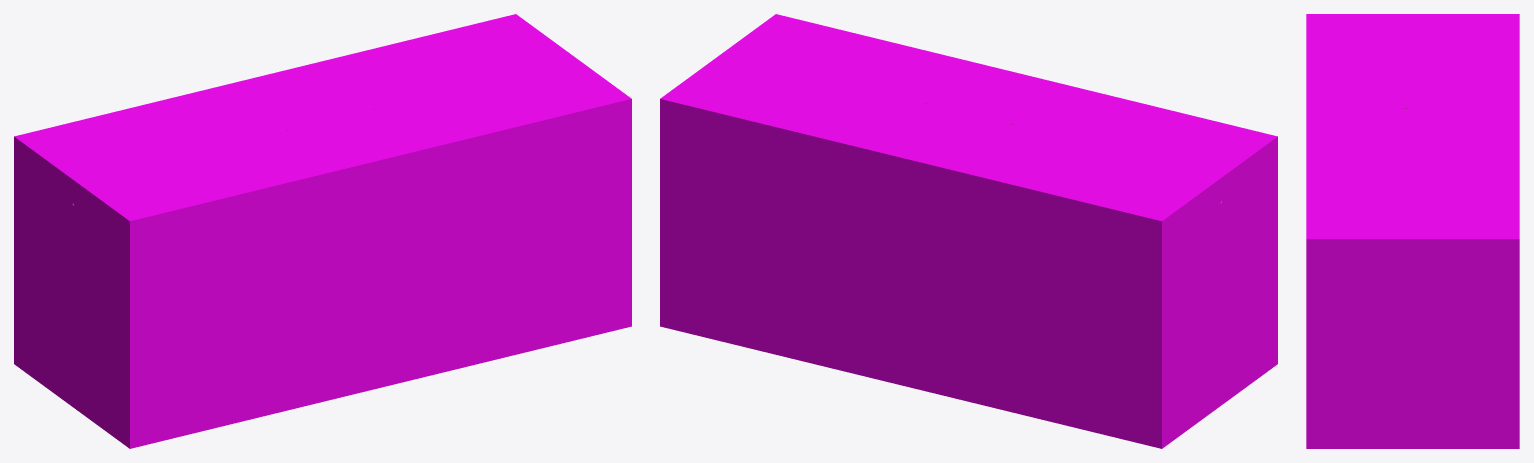
The model's file is prop_equipment_case.glb.
3 views of the same model, side by side, from view 1: azimuth 30°, elevation 25°; view 2: azimuth 150°, elevation 25°; view 3: azimuth 270°, elevation 25° (orthographic). The views are drawn at different scales.
Visible parts, largest first — view 1: prop_equipment_case_col; view 2: prop_equipment_case_col; view 3: prop_equipment_case_col.
Part boxes in pixels (bbox=[...]): prop_equipment_case_col: bbox=[14, 14, 631, 448]; prop_equipment_case_col: bbox=[660, 14, 1277, 448]; prop_equipment_case_col: bbox=[1306, 14, 1519, 448].
Bounding box in the file's own units: 6 × 2.6 × 2.4.
2 materials, 1 textured.
